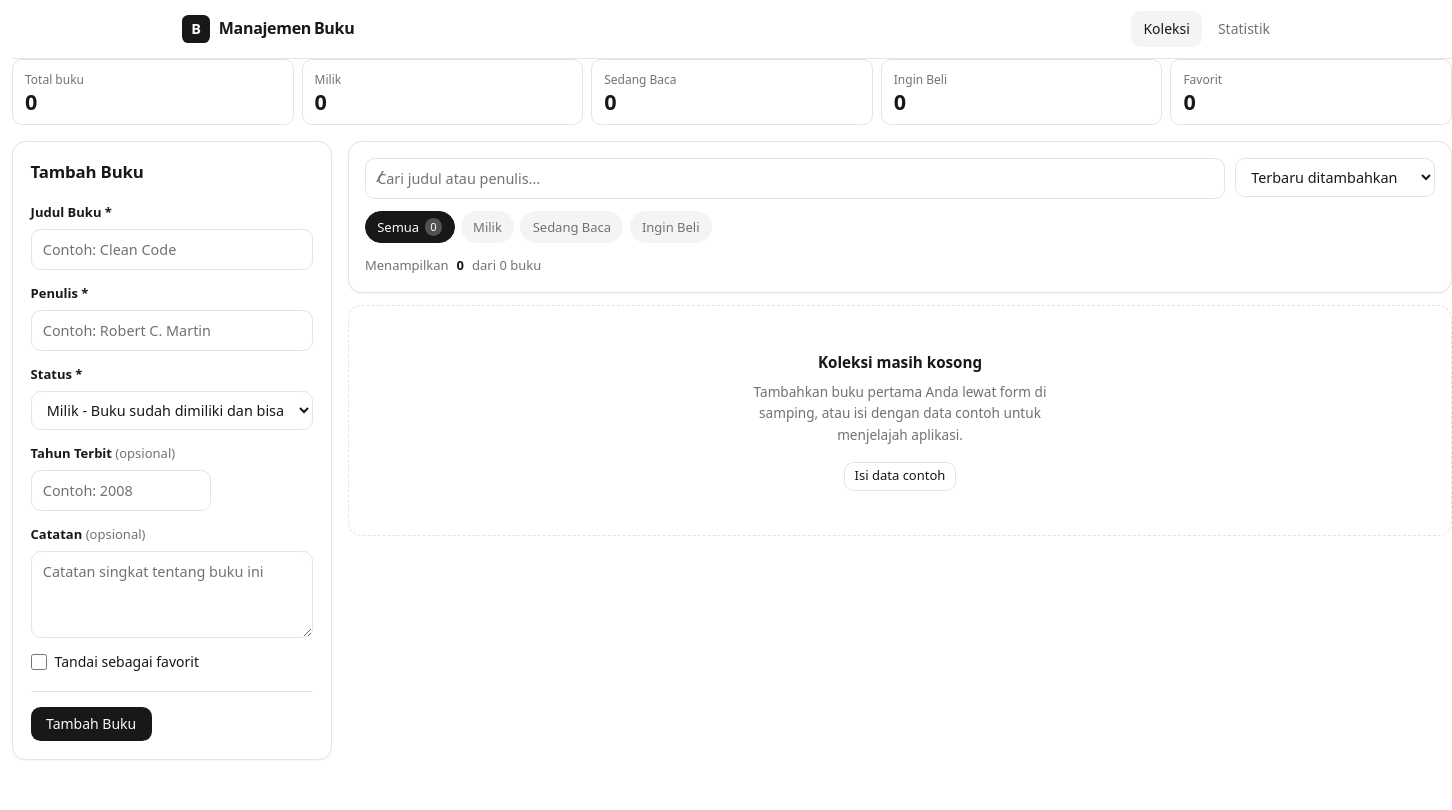
Test case: Navigasi React Router › berpindah ke halaman Statistik saat tautan diklik
The width and height of the screenshot is (1452, 810).
Click the link "Statistik". click: (1244, 28)
box: [1218,19,1270,38]
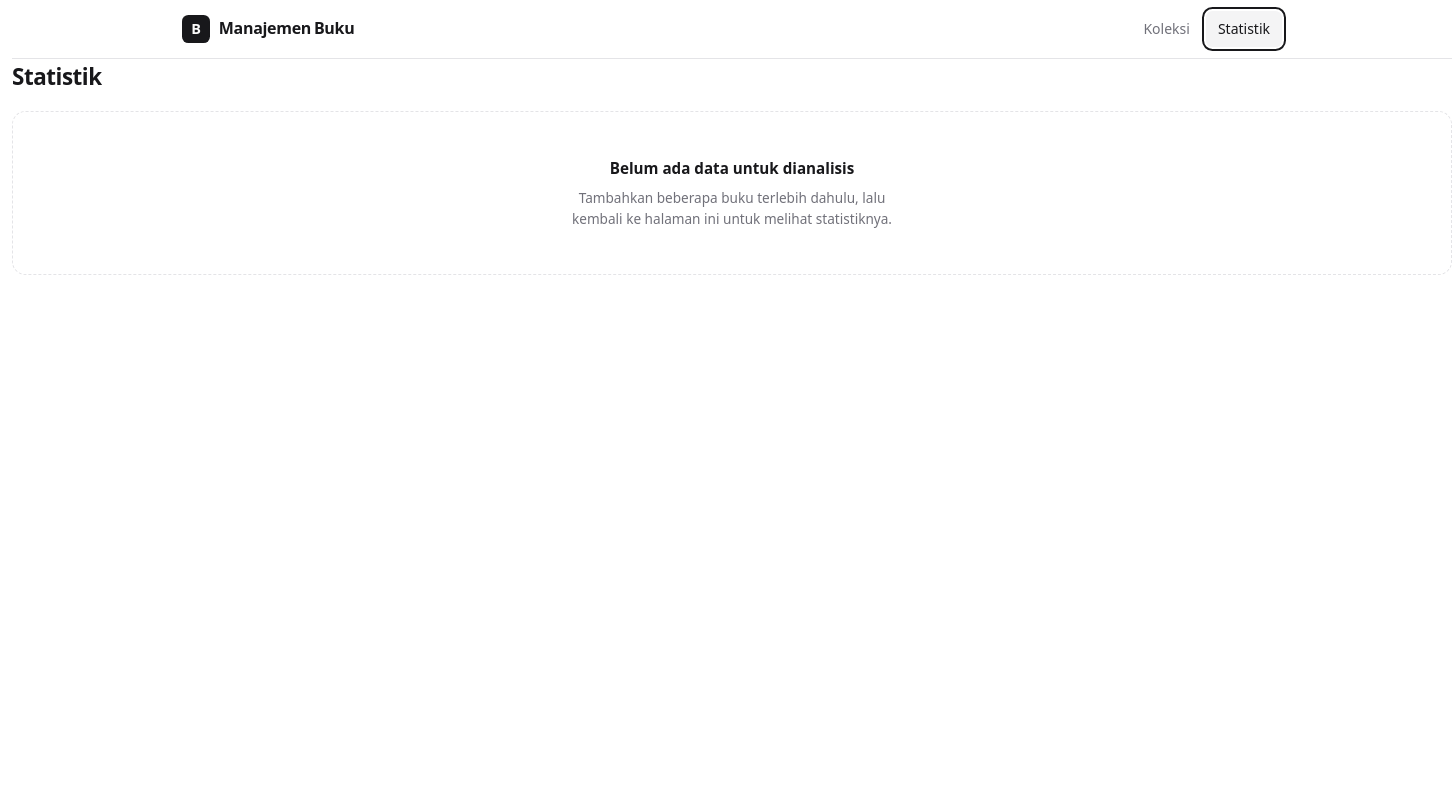
Check: the heading "Statistik" is shown, box [12,61,102,92]
